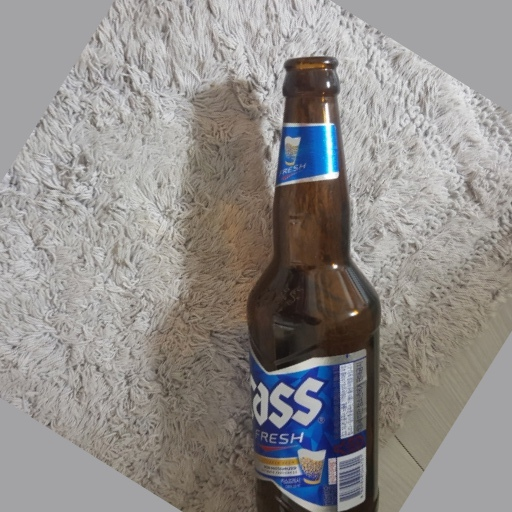Glass_1: (238, 55, 389, 512)
